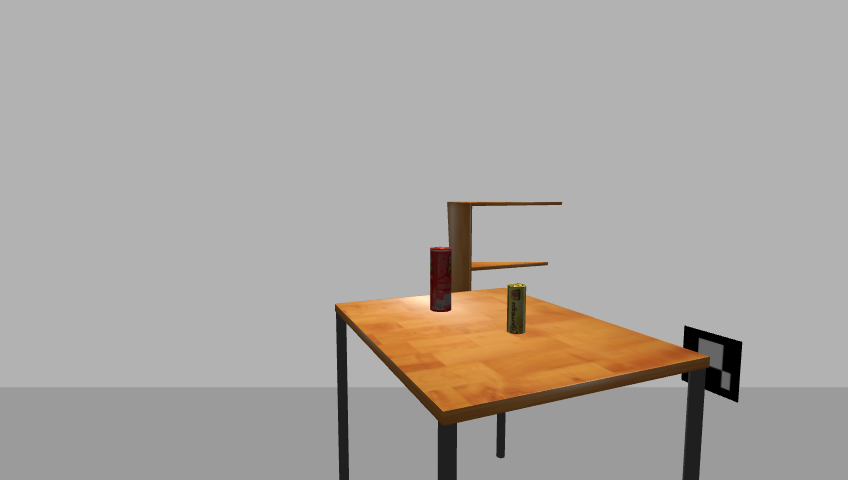aruco marker: (677, 324, 747, 404)
biscuits pack: (505, 284, 528, 336)
bookshelf: (443, 197, 568, 352)
dinner table: (327, 287, 718, 480)
pringles can: (428, 246, 453, 314)
